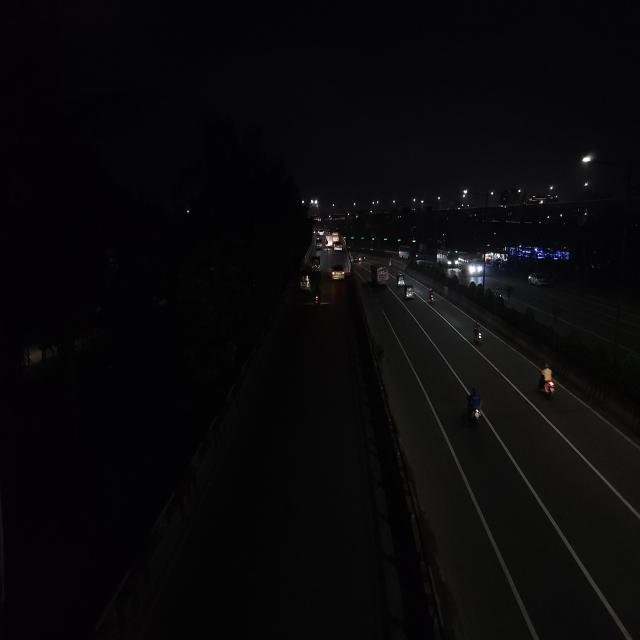bus: (463, 252, 484, 278), (439, 250, 460, 270), (376, 263, 390, 284)
car: (526, 270, 548, 288), (330, 261, 348, 282), (332, 240, 344, 252), (357, 252, 366, 264)
cng: (298, 267, 312, 293), (310, 253, 322, 272), (403, 283, 415, 302), (395, 270, 405, 285)
motorcycle: (462, 384, 487, 432), (536, 362, 558, 404), (472, 321, 484, 346), (427, 286, 436, 305), (314, 288, 322, 307)
